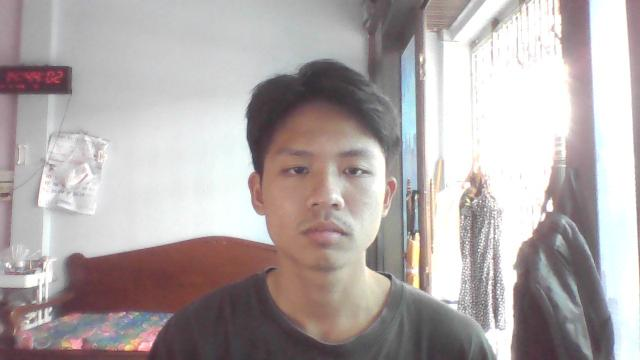fokus: (248, 110, 396, 276)
